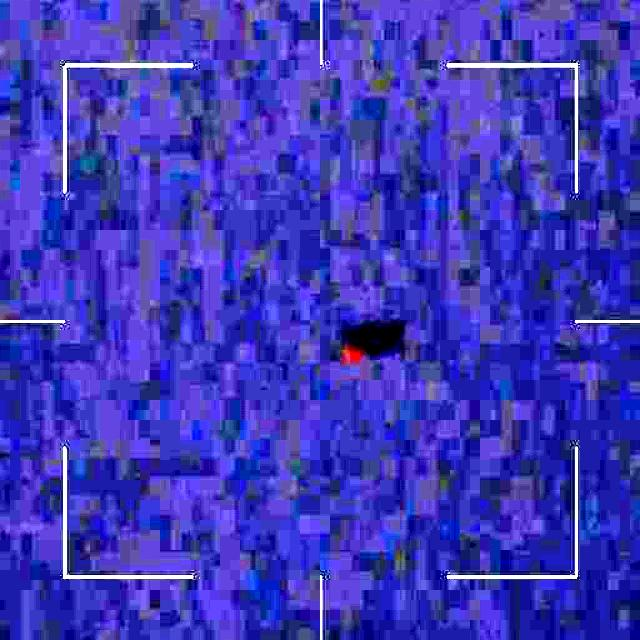bird: (335, 332, 368, 382)
